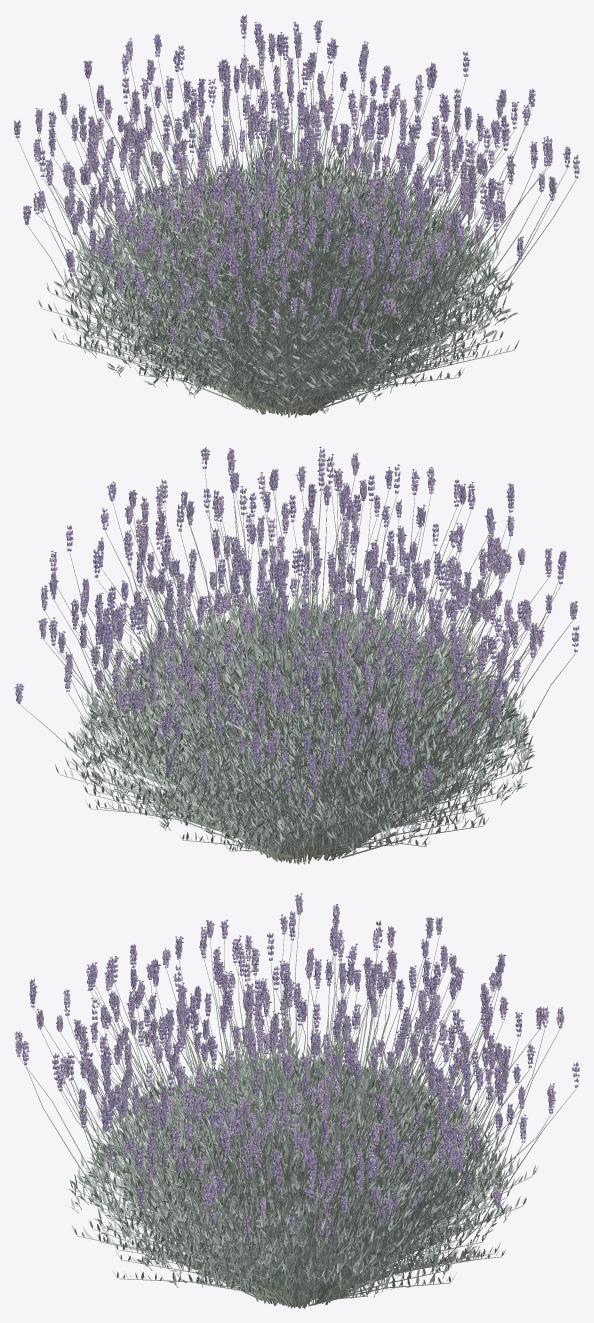
File: lavender-angustifolia-forma-original.glb
The picture shows the model from 3 angles, top to bottom: view 1: azimuth 30°, elevation 25°; view 2: azimuth 150°, elevation 25°; view 3: azimuth 270°, elevation 25°; orthographic projection. The views are drawn at different scales.
Visible parts, largest first — view 1: LAVENDER_MATURE-flower-stem, LAVENDER_MATURE-foliage-silver, LAVENDER_MATURE-foliage-light, LAVENDER_MATURE-stem, LAVENDER_MATURE-foliage-sage, LAVENDER_MATURE-flower-lavender, LAVENDER_MATURE-flower-purple, LAVENDER_MATURE-flower-royal, LAVENDER_MATURE-foliage-deep, LAVENDER_NATURAL-flower-stem, LAVENDER_NATURAL-flower-royal, LAVENDER_NATURAL-flower-purple (+22 smaller); view 2: LAVENDER_MATURE-flower-stem, LAVENDER_MATURE-foliage-silver, LAVENDER_MATURE-foliage-light, LAVENDER_MATURE-stem, LAVENDER_MATURE-foliage-sage, LAVENDER_MATURE-flower-lavender, LAVENDER_MATURE-flower-royal, LAVENDER_MATURE-flower-purple, LAVENDER_MATURE-foliage-deep, LAVENDER_NATURAL-flower-stem, LAVENDER_NATURAL-flower-royal, LAVENDER_MATURE-flower-dusk (+22 smaller); view 3: LAVENDER_MATURE-flower-stem, LAVENDER_MATURE-foliage-light, LAVENDER_MATURE-foliage-silver, LAVENDER_MATURE-foliage-sage, LAVENDER_MATURE-stem, LAVENDER_MATURE-flower-lavender, LAVENDER_MATURE-flower-purple, LAVENDER_MATURE-flower-royal, LAVENDER_MATURE-foliage-deep, LAVENDER_NATURAL-flower-stem, LAVENDER_NATURAL-flower-royal, LAVENDER_MATURE-flower-dusk (+21 smaller).
Boxes of the visible parts, <box> form: LAVENDER_MATURE-flower-stem: <box>17,39,576,381</box>; LAVENDER_MATURE-foliage-silver: <box>38,142,519,412</box>; LAVENDER_MATURE-foliage-light: <box>53,144,512,412</box>; LAVENDER_MATURE-stem: <box>43,151,514,417</box>; LAVENDER_MATURE-foliage-sage: <box>46,143,517,410</box>; LAVENDER_MATURE-flower-lavender: <box>16,17,578,297</box>; LAVENDER_MATURE-flower-purple: <box>14,20,579,296</box>; LAVENDER_MATURE-flower-royal: <box>16,15,578,295</box>; LAVENDER_MATURE-foliage-deep: <box>67,158,515,409</box>; LAVENDER_NATURAL-flower-stem: <box>69,112,519,389</box>; LAVENDER_NATURAL-flower-royal: <box>66,91,523,315</box>; LAVENDER_NATURAL-flower-purple: <box>66,92,520,317</box>; LAVENDER_MATURE-flower-stem: <box>19,470,575,847</box>; LAVENDER_MATURE-foliage-silver: <box>64,580,534,853</box>; LAVENDER_MATURE-foliage-light: <box>68,576,529,855</box>; LAVENDER_MATURE-stem: <box>59,589,530,863</box>; LAVENDER_MATURE-foliage-sage: <box>54,587,535,856</box>; LAVENDER_MATURE-flower-lavender: <box>14,446,579,777</box>; LAVENDER_MATURE-flower-royal: <box>17,447,578,776</box>; LAVENDER_MATURE-flower-purple: <box>17,450,579,777</box>; LAVENDER_MATURE-foliage-deep: <box>73,589,528,853</box>; LAVENDER_NATURAL-flower-stem: <box>62,544,532,833</box>; LAVENDER_NATURAL-flower-royal: <box>58,524,536,782</box>; LAVENDER_MATURE-flower-dusk: <box>16,448,577,782</box>; LAVENDER_MATURE-flower-stem: <box>19,915,575,1269</box>; LAVENDER_MATURE-foliage-light: <box>76,1029,522,1302</box>; LAVENDER_MATURE-foliage-silver: <box>69,1037,535,1302</box>; LAVENDER_MATURE-foliage-sage: <box>70,1030,537,1302</box>; LAVENDER_MATURE-stem: <box>73,1042,532,1308</box>; LAVENDER_MATURE-flower-lavender: <box>15,893,577,1206</box>; LAVENDER_MATURE-flower-purple: <box>15,894,578,1207</box>; LAVENDER_MATURE-flower-royal: <box>18,897,579,1206</box>; LAVENDER_MATURE-foliage-deep: <box>69,1049,506,1301</box>; LAVENDER_NATURAL-flower-stem: <box>84,992,521,1271</box>; LAVENDER_NATURAL-flower-royal: <box>79,973,523,1215</box>; LAVENDER_MATURE-flower-dusk: <box>18,912,577,1207</box>.
Size of the model in its own units: 1.2 by 0.7557 by 1.24.
